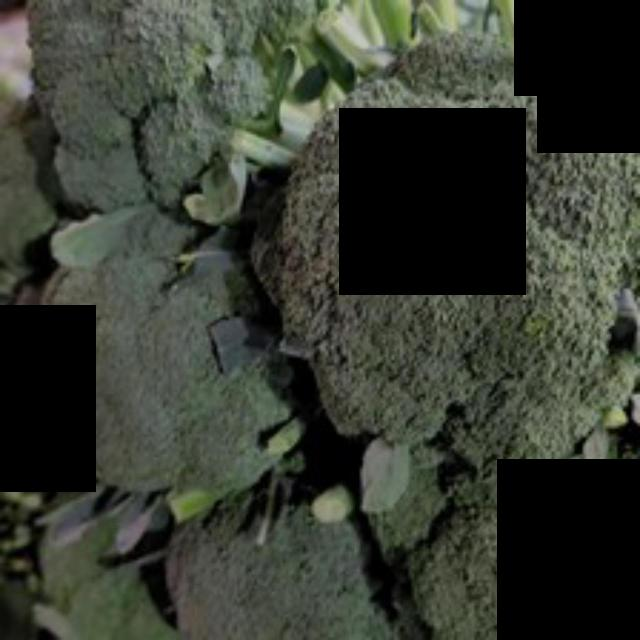broccoli: (243, 46, 637, 480)
